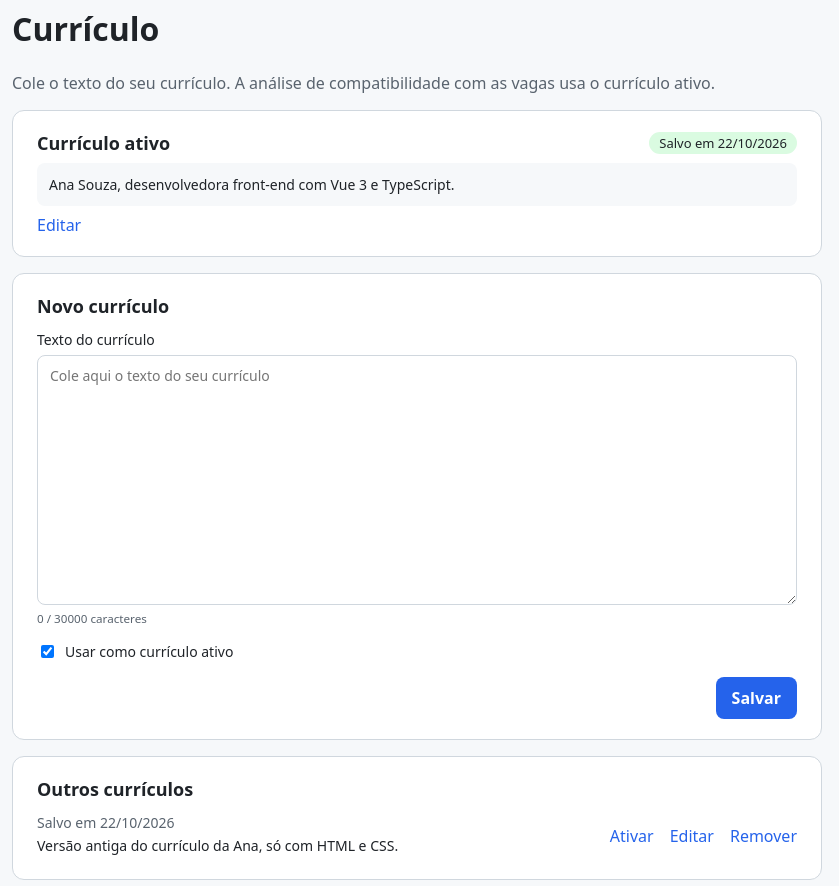
Test: CurriculoView › editar › cancelar descarta a edição
Click the button with test id "editar-ativo" at (59, 225), box 37,214 -> 81,236
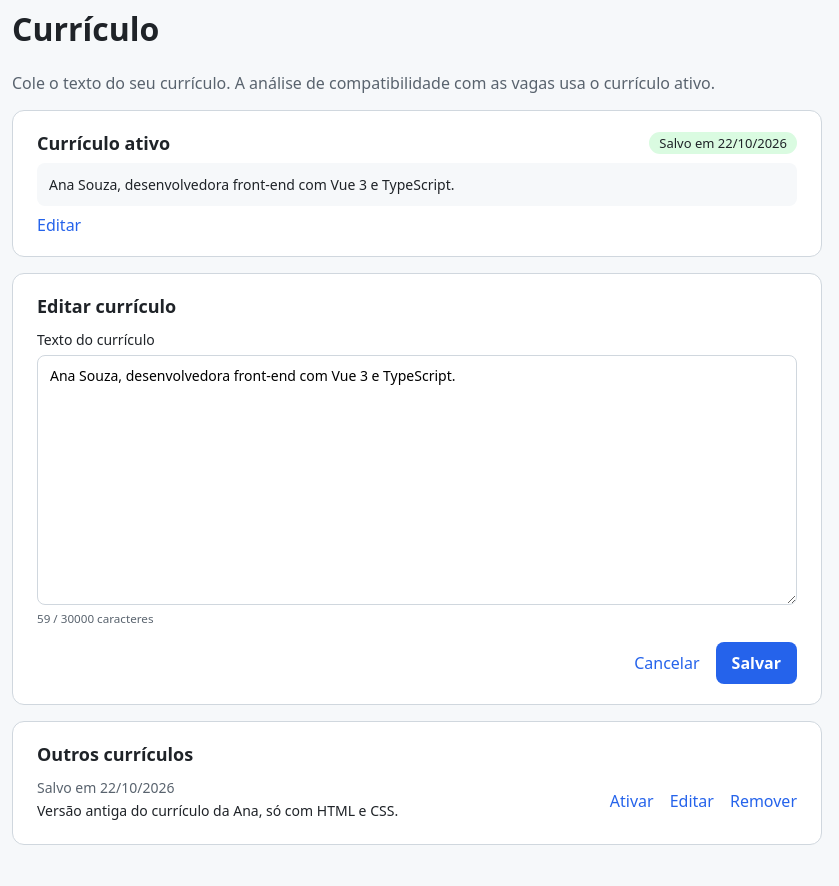
Click the button with test id "cancelar" at (667, 663), box 634,652 -> 700,674
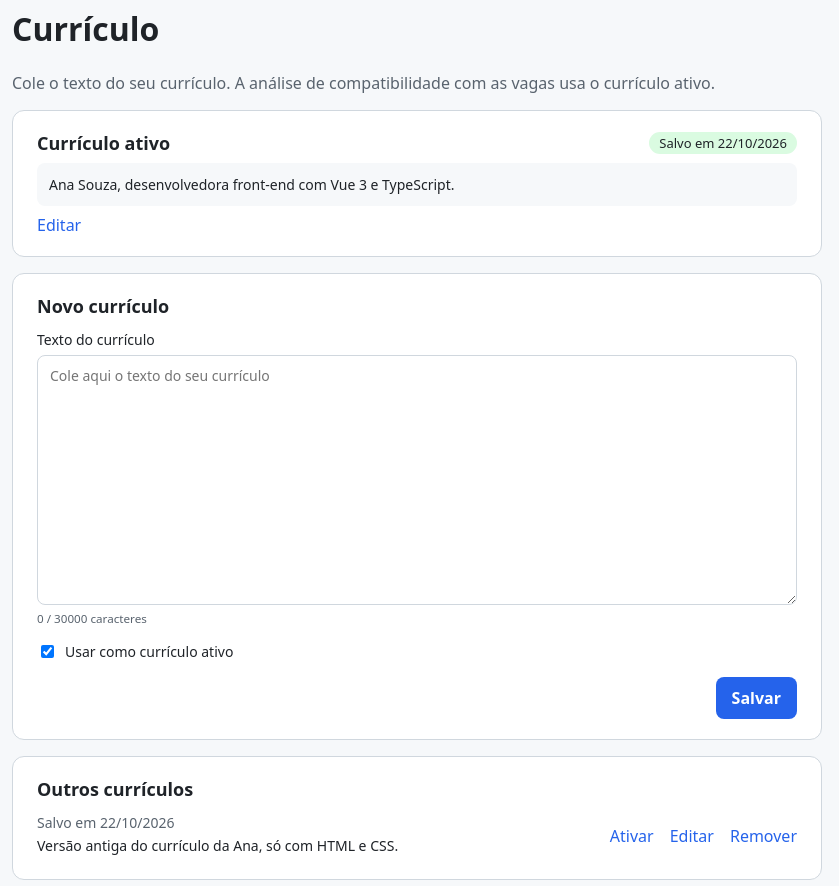
Now the text box with test id "texto" is empty, box 37,355 -> 797,605
